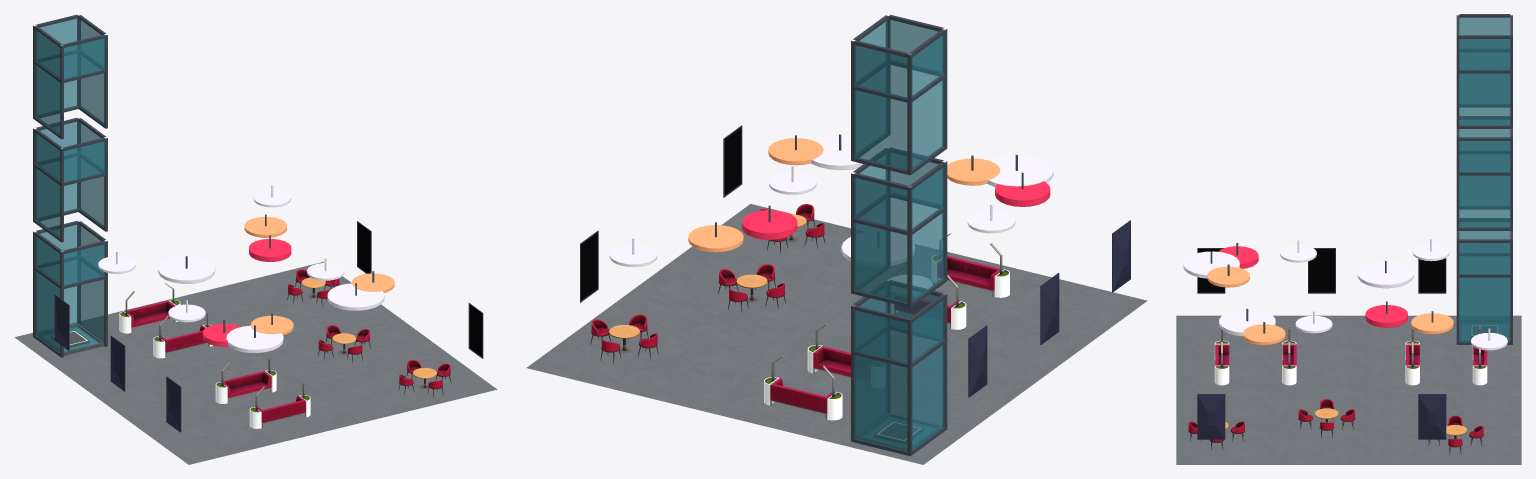
The model's file is TeachingCommunityInteriorTeachingRoomLobby.glb.
3 renders of one model, left to right at view 1: azimuth 30°, elevation 25°; view 2: azimuth 150°, elevation 25°; view 3: azimuth 270°, elevation 25°, orthographic. The views are drawn at different scales.
Visible parts, largest first — view 1: TCV_TeachingRoomFloor, TCV_LiftGlass, TCV_LiftFrames, TCV_WelcomeZoneRoofArt1, TCV_TeachingRoomLobbySofa06, TCV_WelcomeZoneRoofLights1, TCV_TeachingRoomLobbySofa07, TCV_TeachingRoomLobbyChairTable6, TCV_Lift, TCV_TeachingRoomLobbyChairTable4, TCV_TeachingRoomLobbyChairTable5, TCV_TeachingRoomLobbyScreen3 (+4 smaller); view 2: TCV_TeachingRoomFloor, TCV_LiftGlass, TCV_LiftFrames, TCV_WelcomeZoneRoofArt1, TCV_WelcomeZoneRoofLights1, TCV_TeachingRoomLobbySofa07, TCV_TeachingRoomLobbySofa06, TCV_Lift, TCV_TeachingRoomLobbyChairTable5, TCV_TeachingRoomLobbyChairTable6, TCV_TeachingRoomLobbyScreen4, TCV_TeachingRoomLobbyScreen3 (+4 smaller); view 3: TCV_TeachingRoomFloor, TCV_LiftGlass, TCV_WelcomeZoneRoofArt1, TCV_LiftFrames, TCV_WelcomeZoneRoofLights1, TCV_TeachingRoomLobbySofa06, TCV_TeachingRoomLobbyScreen2, TCV_TeachingRoomLobbyScreen3, TCV_TeachingRoomLobbySofa07, TCV_TeachingRoomLobbyScreen6, TCV_TeachingRoomLobbyScreen4, TCV_TeachingRoomLobbyChairTable6 (+4 smaller).
Boxes of the visible parts, x1=… form: TCV_TeachingRoomFloor: x1=15, y1=262, x2=496, y2=464; TCV_LiftGlass: x1=35, y1=18, x2=105, y2=352; TCV_LiftFrames: x1=33, y1=14, x2=107, y2=357; TCV_WelcomeZoneRoofArt1: x1=158, y1=214, x2=394, y2=353; TCV_TeachingRoomLobbySofa06: x1=215, y1=353, x2=310, y2=428; TCV_WelcomeZoneRoofLights1: x1=98, y1=185, x2=344, y2=322; TCV_TeachingRoomLobbySofa07: x1=119, y1=283, x2=212, y2=358; TCV_TeachingRoomLobbyChairTable6: x1=318, y1=325, x2=370, y2=363; TCV_Lift: x1=37, y1=324, x2=104, y2=355; TCV_TeachingRoomLobbyChairTable4: x1=398, y1=359, x2=451, y2=398; TCV_TeachingRoomLobbyChairTable5: x1=287, y1=269, x2=339, y2=307; TCV_TeachingRoomLobbyScreen3: x1=468, y1=303, x2=483, y2=358; TCV_TeachingRoomFloor: x1=526, y1=204, x2=1147, y2=464; TCV_LiftGlass: x1=854, y1=20, x2=944, y2=451; TCV_LiftFrames: x1=851, y1=15, x2=947, y2=456; TCV_WelcomeZoneRoofArt1: x1=688, y1=134, x2=1053, y2=265; TCV_WelcomeZoneRoofLights1: x1=609, y1=166, x2=1015, y2=288; TCV_TeachingRoomLobbySofa07: x1=764, y1=323, x2=850, y2=420; TCV_TeachingRoomLobbySofa06: x1=891, y1=233, x2=1009, y2=329; TCV_Lift: x1=856, y1=413, x2=941, y2=449; TCV_TeachingRoomLobbyChairTable5: x1=590, y1=314, x2=658, y2=364; TCV_TeachingRoomLobbyChairTable6: x1=718, y1=264, x2=786, y2=313; TCV_TeachingRoomLobbyScreen4: x1=968, y1=325, x2=987, y2=397; TCV_TeachingRoomLobbyScreen3: x1=723, y1=125, x2=742, y2=197; TCV_TeachingRoomFloor: x1=1176, y1=315, x2=1521, y2=464; TCV_LiftGlass: x1=1459, y1=17, x2=1510, y2=342; TCV_WelcomeZoneRoofArt1: x1=1183, y1=243, x2=1453, y2=344; TCV_LiftFrames: x1=1456, y1=14, x2=1512, y2=344; TCV_WelcomeZoneRoofLights1: x1=1280, y1=239, x2=1507, y2=350; TCV_TeachingRoomLobbySofa06: x1=1214, y1=326, x2=1296, y2=385; TCV_TeachingRoomLobbyScreen2: x1=1418, y1=394, x2=1446, y2=439; TCV_TeachingRoomLobbyScreen3: x1=1197, y1=394, x2=1225, y2=439; TCV_TeachingRoomLobbySofa07: x1=1405, y1=326, x2=1487, y2=385; TCV_TeachingRoomLobbyScreen6: x1=1308, y1=248, x2=1335, y2=293; TCV_TeachingRoomLobbyScreen4: x1=1418, y1=258, x2=1446, y2=293; TCV_TeachingRoomLobbyChairTable6: x1=1298, y1=399, x2=1355, y2=438.
Size of what is drawn, in the model's own units: 19.14 by 18.45 by 18.69.
Materials: 6 (5 with a texture image).
